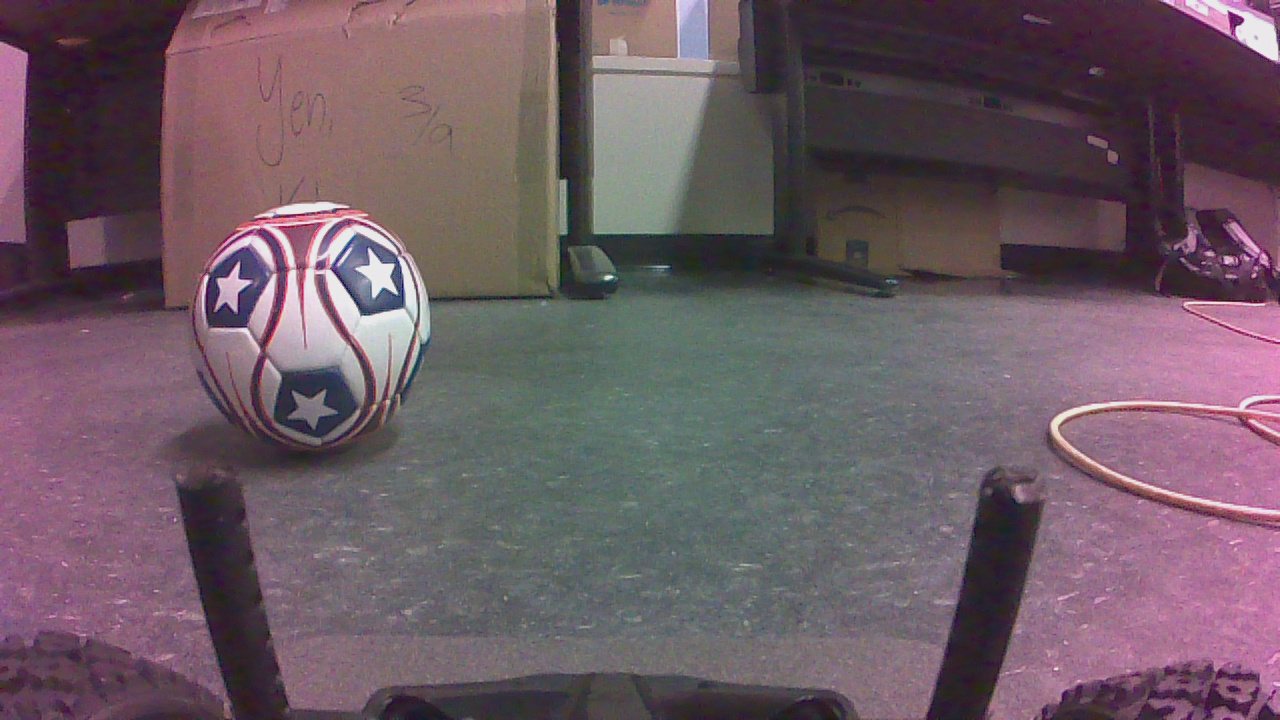ball: (179, 203, 440, 463)
